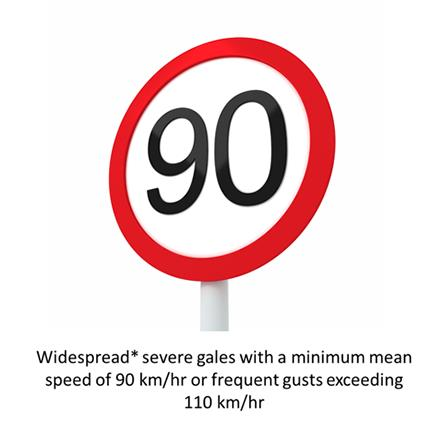Speed_limit_90km: (107, 37, 338, 284)
